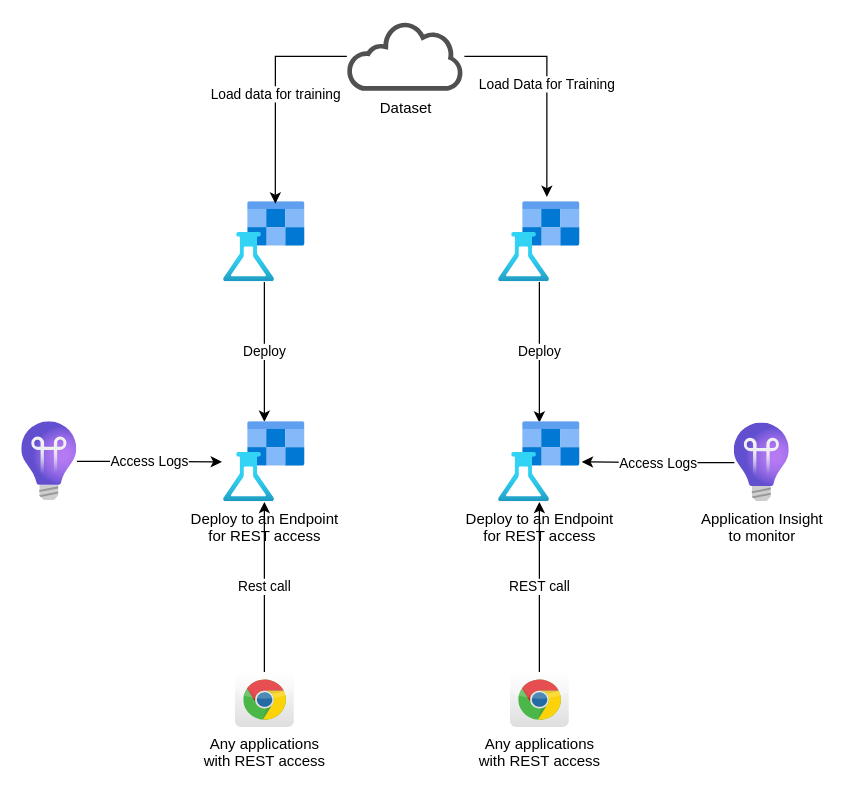
This 844x793 diagram has some shape labels left out. Each missing label, with the centre of its shape:
"Auto ML ((result)Voting Ensemble)" goes at pixel 263 241.
"Hyperdrive Hyper parameter configuration (Random Forest Classifier)" goes at pixel 538 241.
